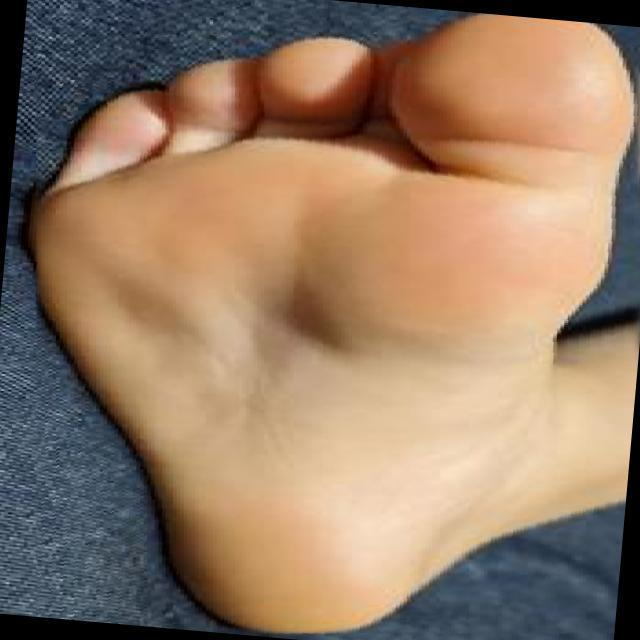Barefoots: (37, 0, 640, 640)
